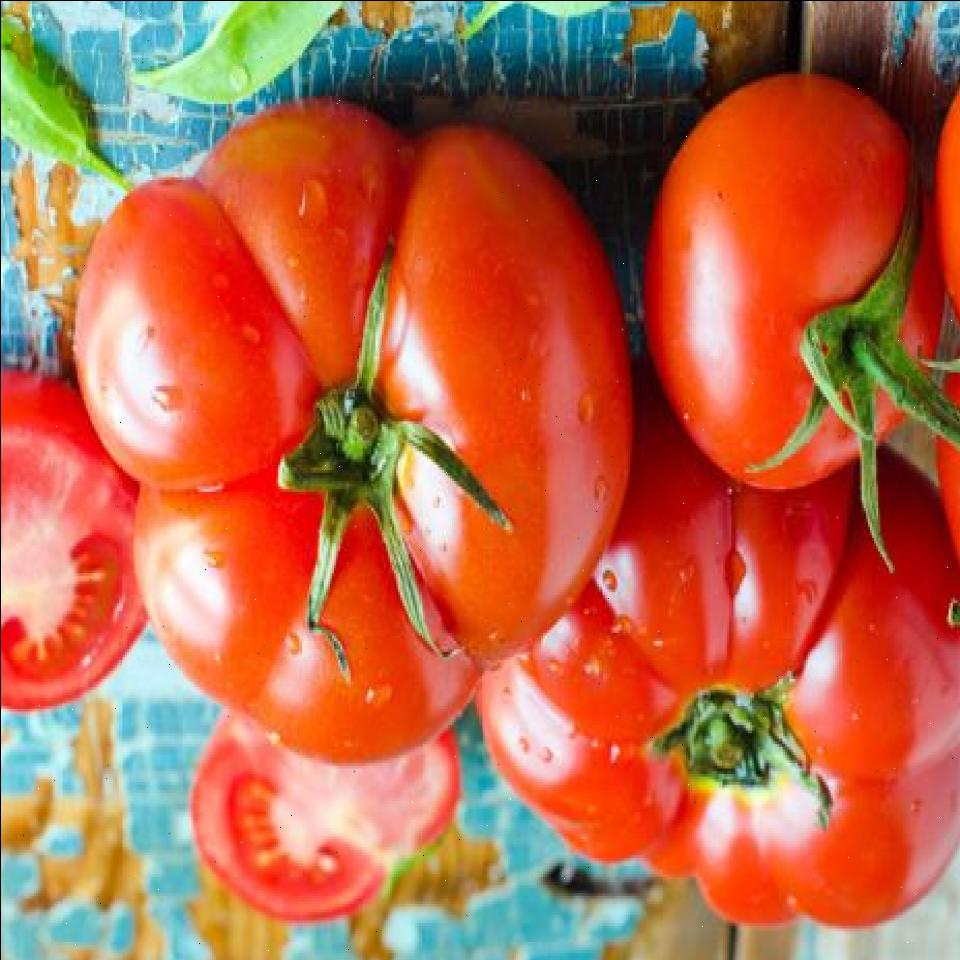Healthy: (124, 129, 594, 735), (507, 499, 960, 936), (627, 61, 936, 532)
